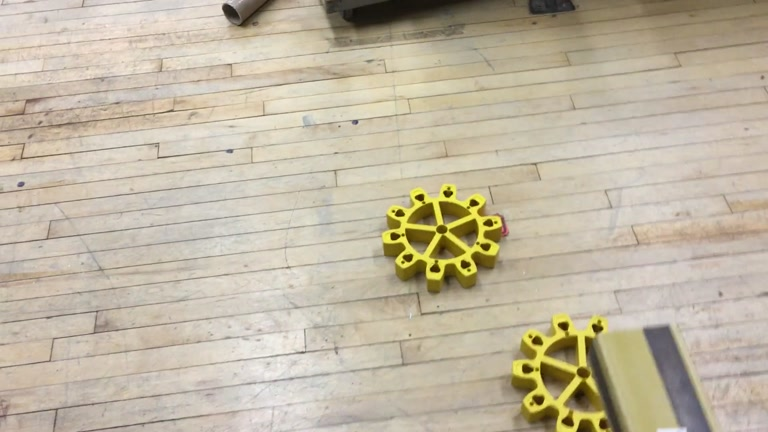gear: (509, 313, 644, 432), (381, 183, 504, 294)
